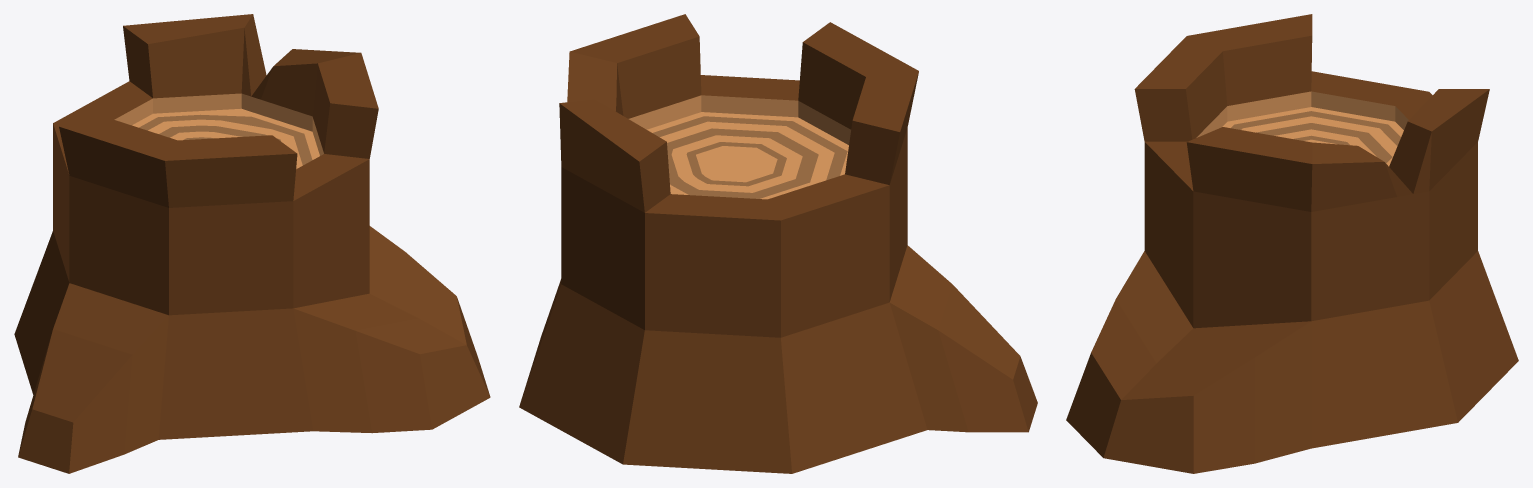
The model's file is tree_trunk2.fbx.
3 views of the same model, side by side, from view 1: azimuth 30°, elevation 25°; view 2: azimuth 150°, elevation 25°; view 3: azimuth 270°, elevation 25° (orthographic). The views are drawn at different scales.
Parts seen in each view (by area): view 1: Circle; view 2: Circle; view 3: Circle.
Part boxes in pixels (x1,y1,x2,y2): Circle: [14, 14, 490, 473]; Circle: [519, 14, 1037, 473]; Circle: [1066, 14, 1518, 473].
Size of the model in its own units: 400 by 253 by 350.
